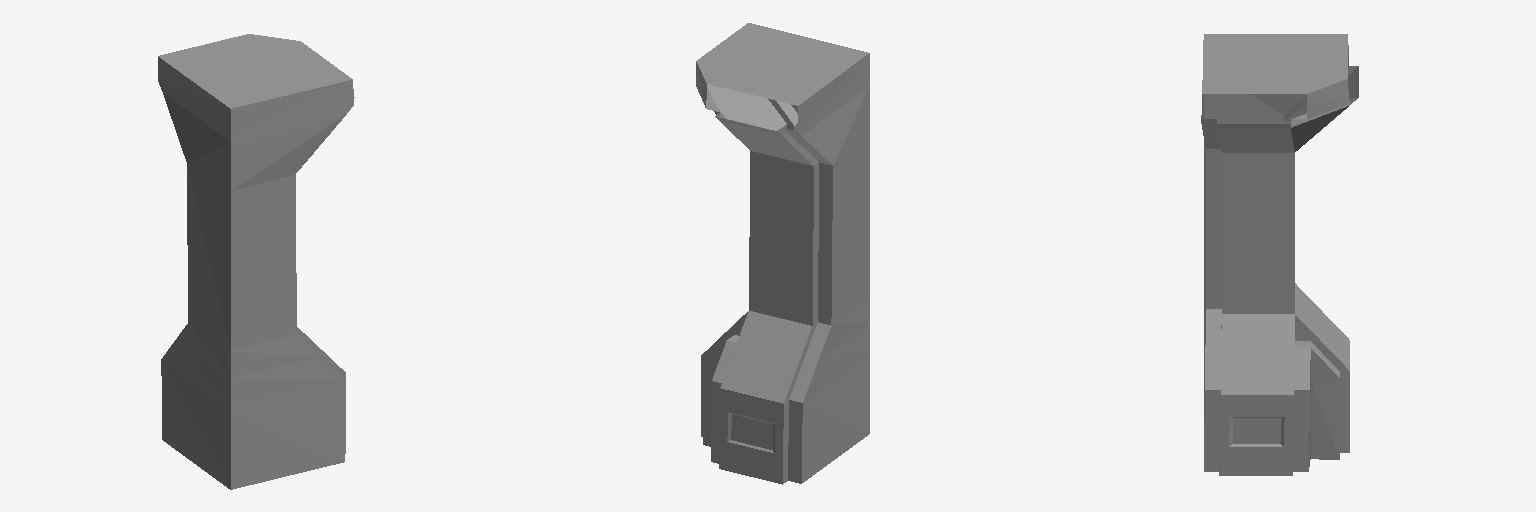
The model's file is interior_pillar_corner01.obj.
The picture shows the model from 3 angles: view 1: azimuth 30°, elevation 25°; view 2: azimuth 150°, elevation 25°; view 3: azimuth 270°, elevation 25°; orthographic projection.
Visible parts, largest first — view 1: Plane.005_Plane.003; view 2: Plane.005_Plane.003; view 3: Plane.005_Plane.003.
Part boxes in pixels (bbox=[...]): Plane.005_Plane.003: bbox=[158, 34, 354, 489]; Plane.005_Plane.003: bbox=[696, 23, 869, 484]; Plane.005_Plane.003: bbox=[1201, 34, 1358, 475].
Size of the model in its own units: 1.48 by 4 by 1.5.